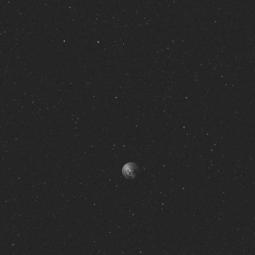debris: (120, 161, 142, 182)
